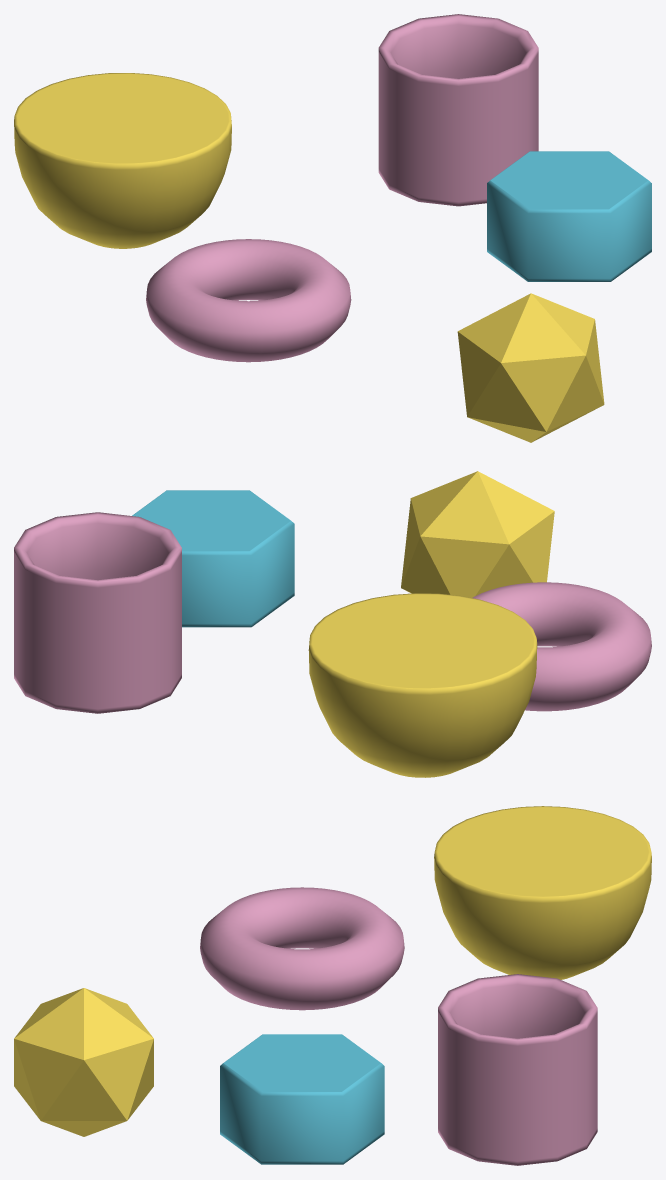
The model's file is shapes.glb.
3 views of the same model, one above another, from view 1: azimuth 30°, elevation 25°; view 2: azimuth 150°, elevation 25°; view 3: azimuth 270°, elevation 25° (orthographic). The views are drawn at different scales.
Parts seen in each view (by area): view 1: Hemisphere, Hollow, Donut, Small Cylinder, Icosphere; view 2: Hemisphere, Hollow, Small Cylinder, Icosphere, Donut; view 3: Hemisphere, Hollow, Donut, Small Cylinder, Icosphere.
Boxes of the visible parts, left/top/right/bottom form: Hemisphere: left=14, top=73, right=231, bottom=248; Hollow: left=378, top=14, right=538, bottom=206; Donut: left=146, top=239, right=351, bottom=362; Small Cylinder: left=487, top=151, right=651, bottom=281; Icosphere: left=457, top=293, right=604, bottom=442; Hemisphere: left=308, top=593, right=537, bottom=777; Hollow: left=14, top=512, right=181, bottom=713; Small Cylinder: left=132, top=490, right=294, bottom=627; Icosphere: left=401, top=471, right=554, bottom=597; Donut: left=472, top=582, right=651, bottom=711; Hemisphere: left=434, top=806, right=651, bottom=979; Hollow: left=438, top=974, right=597, bottom=1165; Donut: left=200, top=887, right=404, bottom=1010; Small Cylinder: left=220, top=1034, right=384, bottom=1164; Icosphere: left=14, top=988, right=153, bottom=1136.
Bounding box in the file's own units: 6.81 × 2.68 × 7.75.
